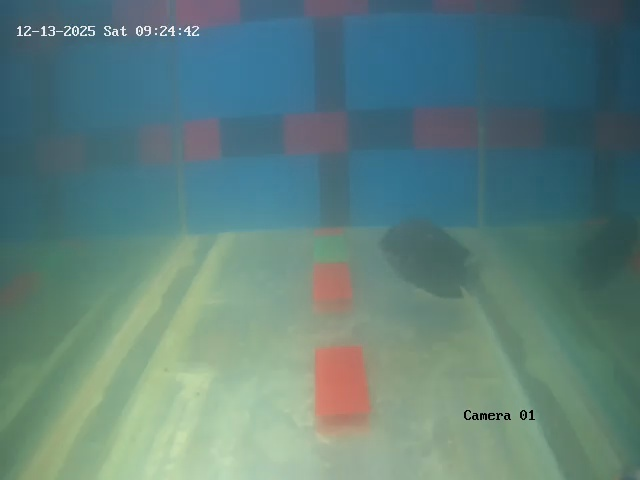fish: (383, 214, 467, 297)
